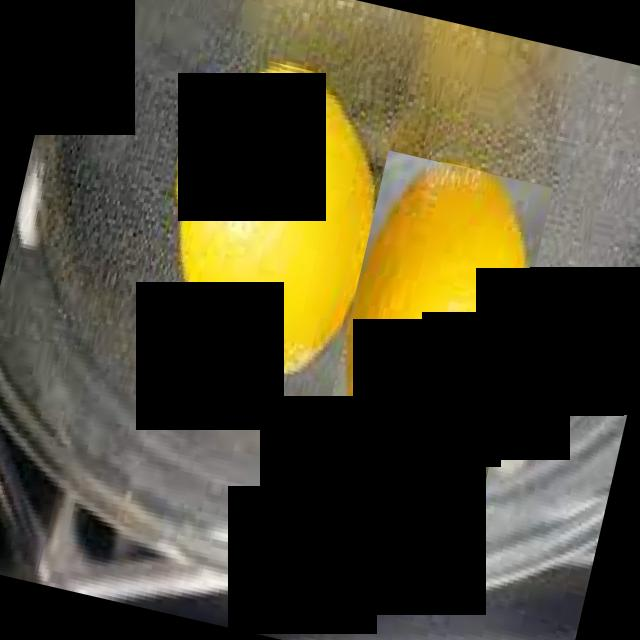lemon: (136, 43, 402, 386), (314, 150, 552, 506)
